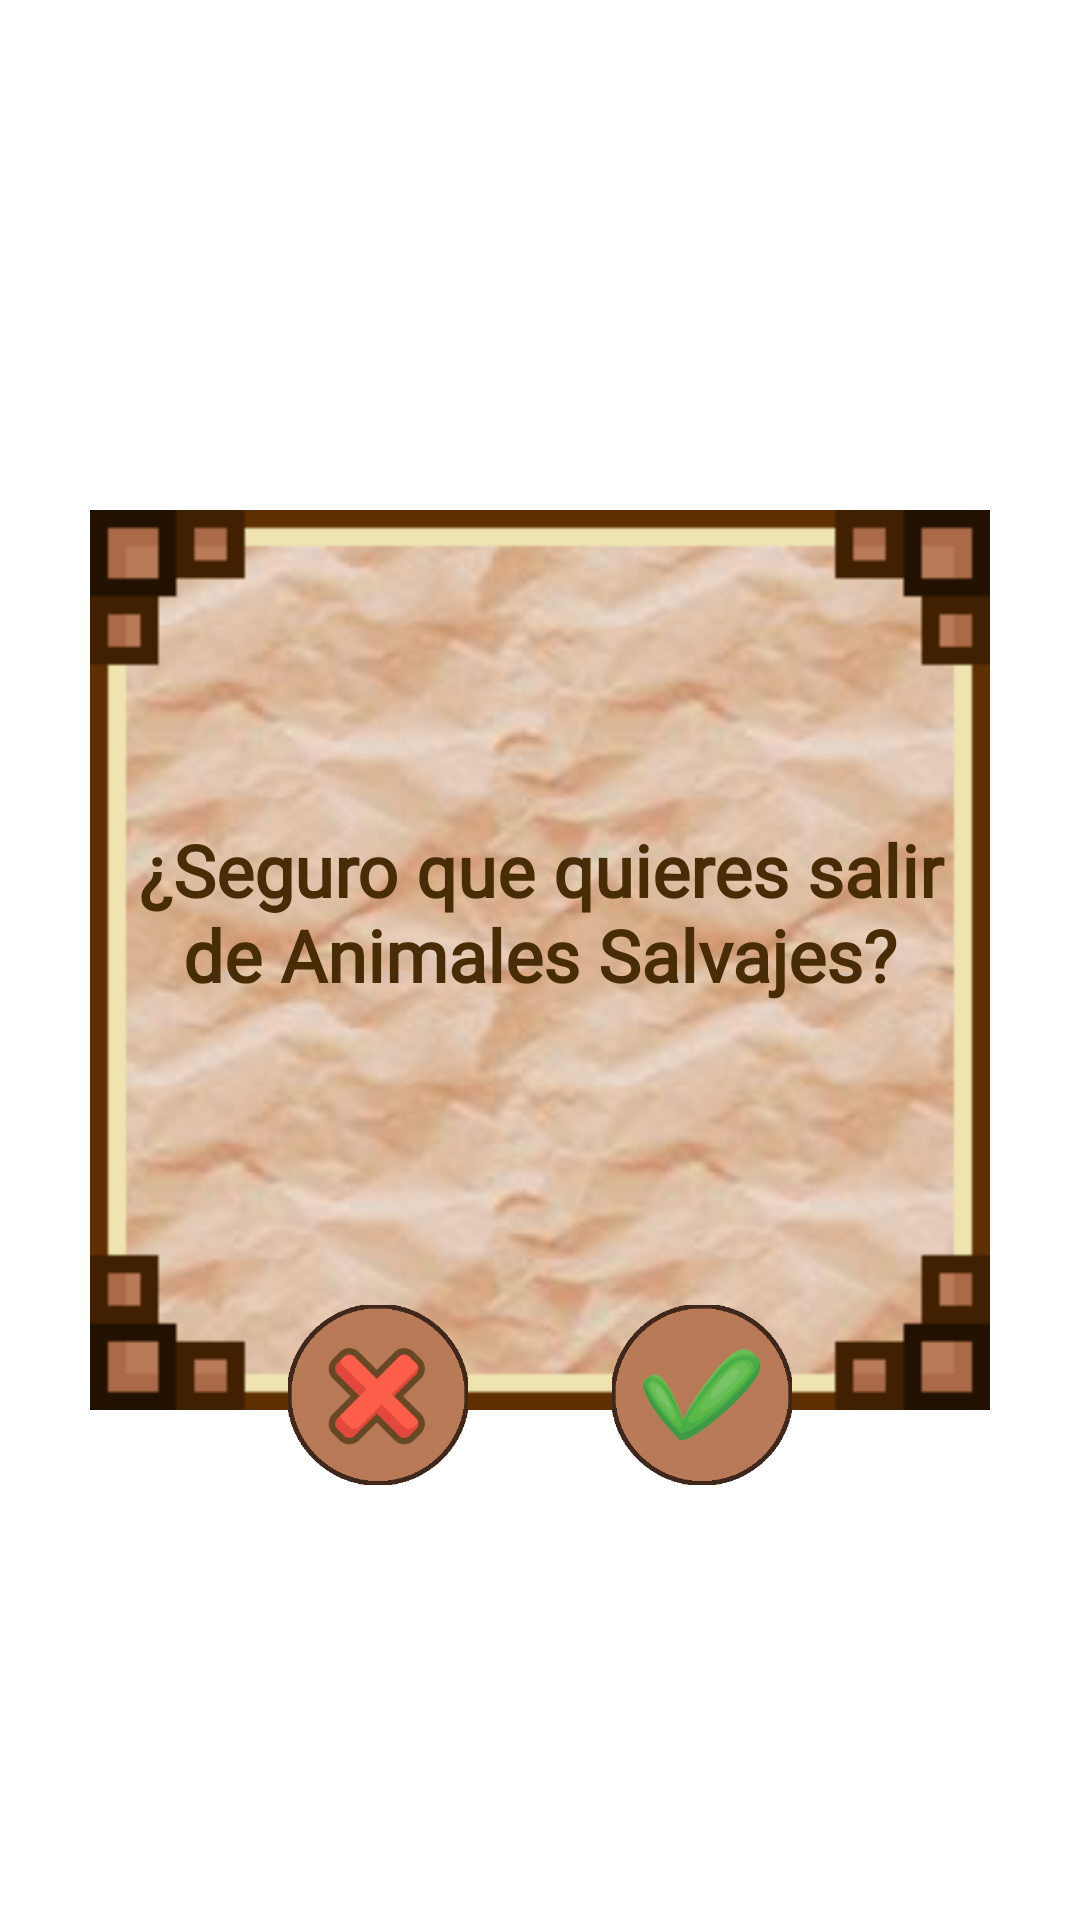

Screen size 1080px×1920px. Icon name, then its center in pixels as (x=x, y=y):
aceptar: (x=702, y=1395)
cerrar: (x=378, y=1395)
